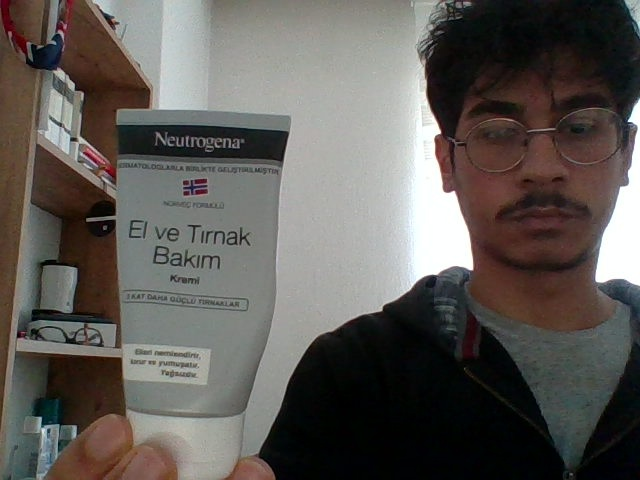Neutrogena: (114, 109, 285, 410)
